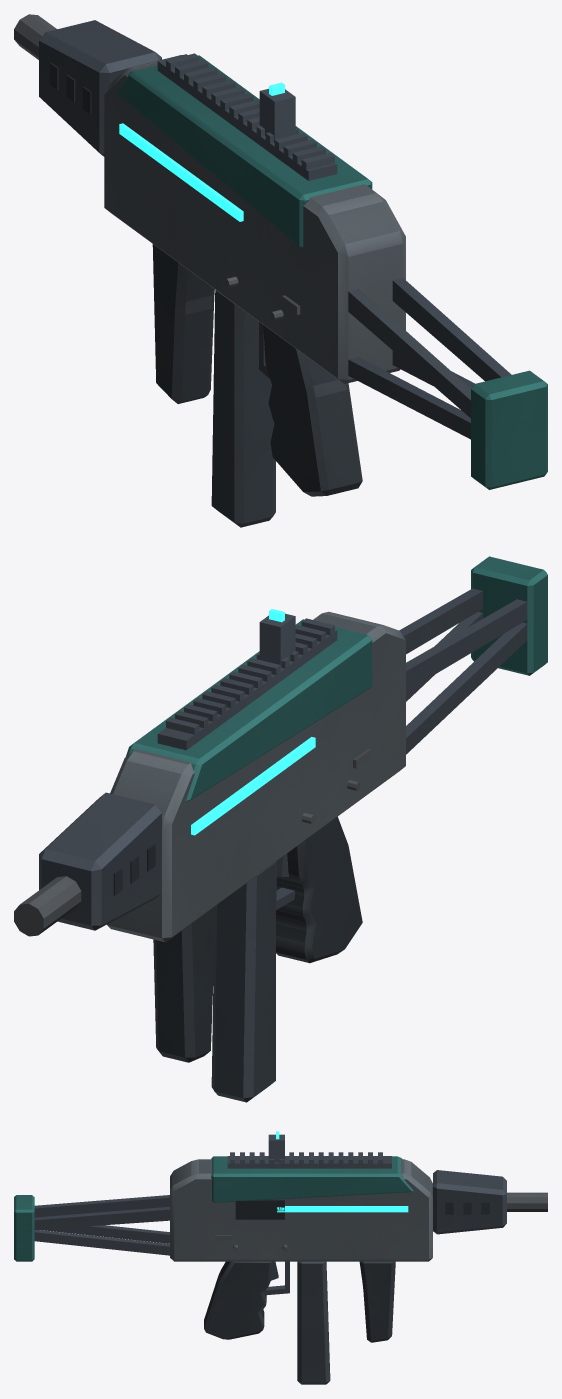
3 views of the same model, one above another, from view 1: azimuth 30°, elevation 25°; view 2: azimuth 150°, elevation 25°; view 3: azimuth 270°, elevation 25° (orthographic). The views are drawn at different scales.
Visible parts, largest first — view 1: c5p-smg_gun, c5p-smg_gunGrip, c5p-smg_glow, c5p-smg_steel; view 2: c5p-smg_gun, c5p-smg_gunGrip, c5p-smg_steel, c5p-smg_glow; view 3: c5p-smg_gun, c5p-smg_gunGrip, c5p-smg_steel, c5p-smg_glow.
Part boxes in pixels (x1,y1,x2,y2): c5p-smg_gun: (39, 20, 511, 439); c5p-smg_gunGrip: (152, 244, 547, 527); c5p-smg_glow: (119, 82, 284, 221); c5p-smg_steel: (14, 14, 300, 320); c5p-smg_gun: (39, 588, 527, 942); c5p-smg_gunGrip: (153, 556, 547, 1102); c5p-smg_steel: (14, 748, 371, 936); c5p-smg_glow: (191, 609, 315, 835); c5p-smg_gun: (34, 1134, 506, 1295); c5p-smg_gunGrip: (14, 1195, 395, 1384); c5p-smg_steel: (215, 1192, 547, 1251); c5p-smg_glow: (276, 1131, 408, 1212).
Size of the model in its own units: 0.066 by 0.333 by 0.65.
4 materials, 3 textured.
